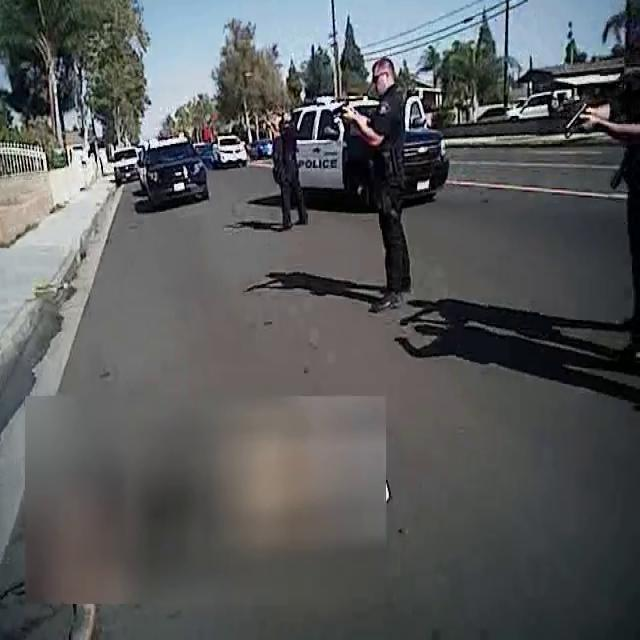gun: (550, 89, 594, 147), (327, 96, 355, 126), (261, 108, 276, 137)
